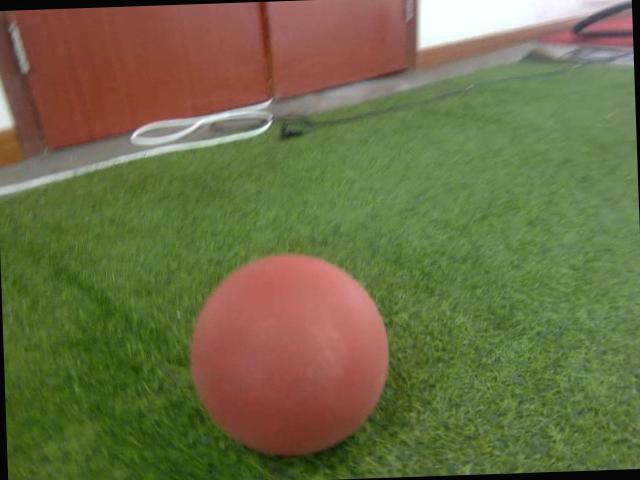red_ball: (184, 249, 394, 460)
